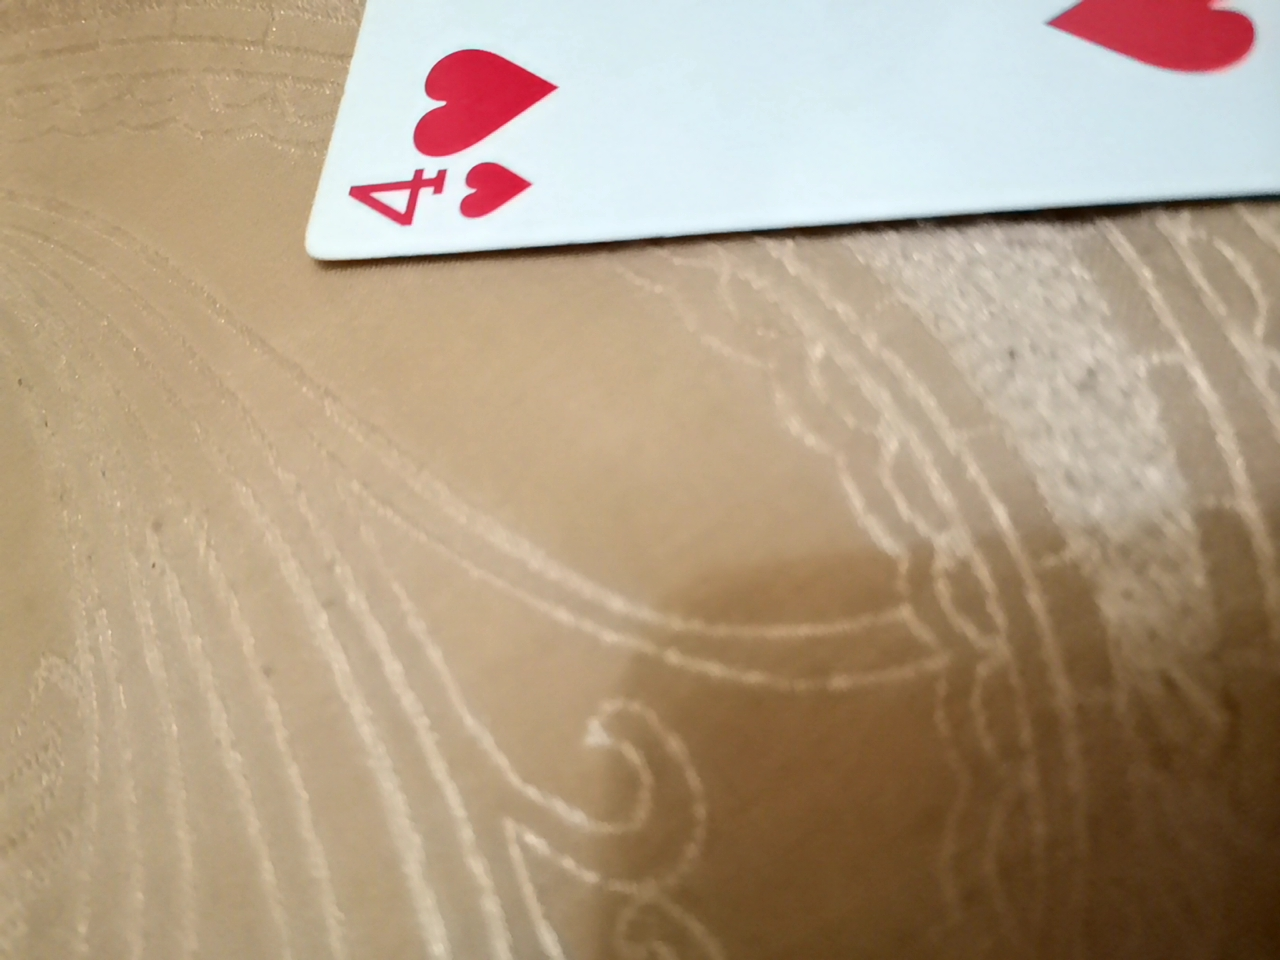hx 4: (303, 0, 1280, 231)
